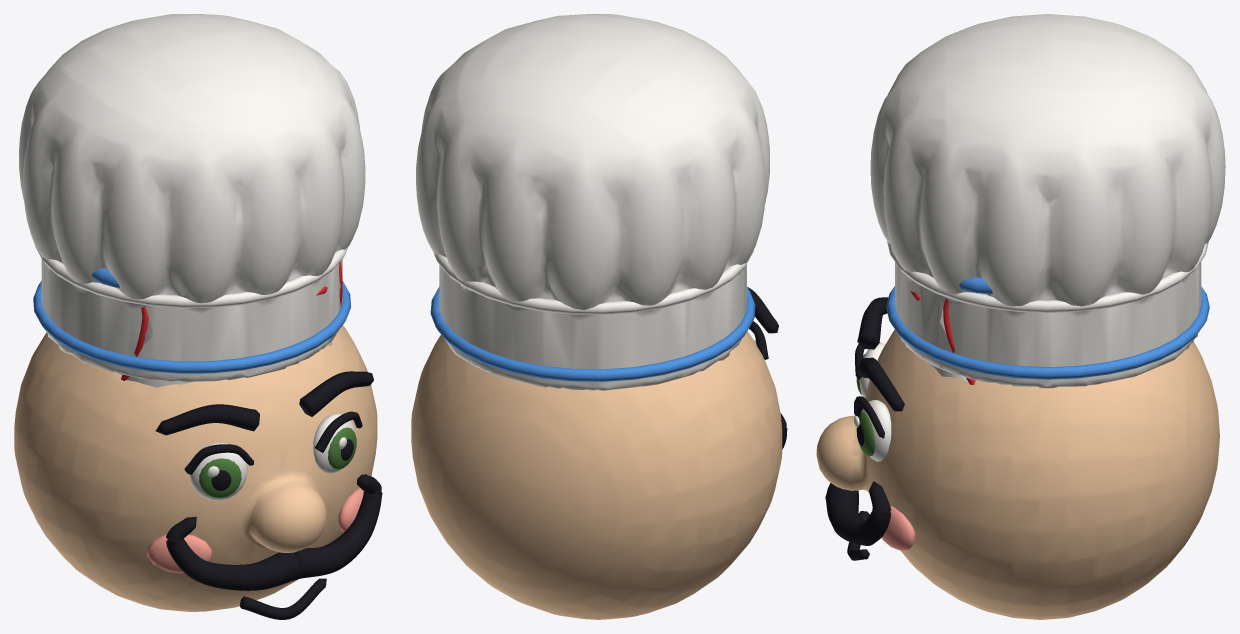
File: chef.glb
The picture shows the model from 3 angles, left to right: view 1: azimuth 30°, elevation 25°; view 2: azimuth 150°, elevation 25°; view 3: azimuth 270°, elevation 25°; orthographic projection. The views are drawn at different scales.
Visible parts, largest first — view 1: chef_Head, chef_Body; view 2: chef_Head; view 3: chef_Head, chef_Body.
Part boxes in pixels (x1,y1,x2,y2): chef_Head: [14, 14, 382, 619]; chef_Body: [92, 262, 342, 387]; chef_Head: [411, 14, 787, 619]; chef_Head: [816, 14, 1225, 619]; chef_Body: [910, 277, 992, 384].
Bounding box in the file's own units: 0.1988 × 0.3316 × 0.2186.
